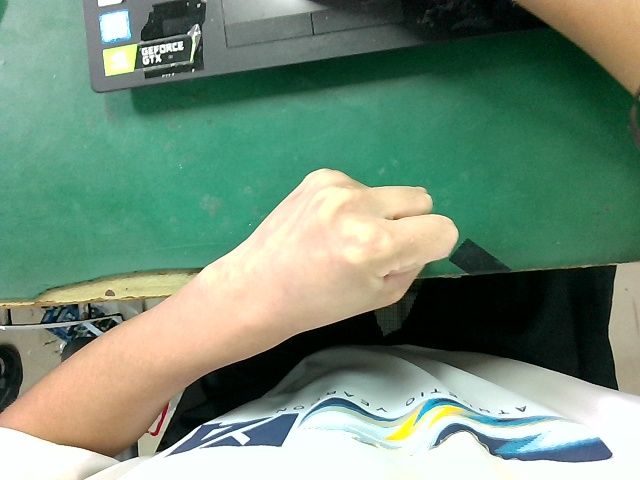stone: (222, 161, 472, 335)
